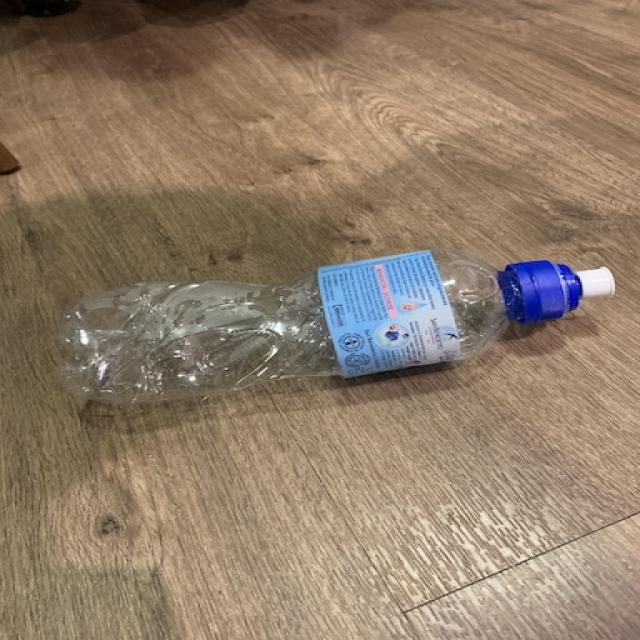Waste: (58, 250, 615, 403)
